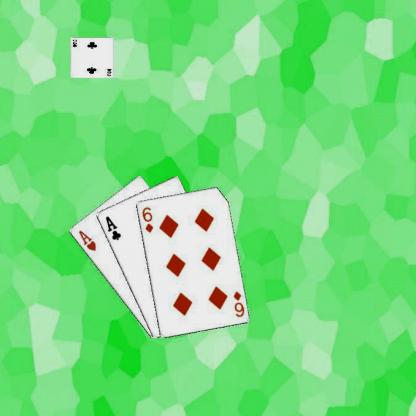6D: (139, 204, 154, 234), (231, 288, 245, 318)
AC: (103, 214, 122, 241)
AH: (75, 228, 97, 252)
